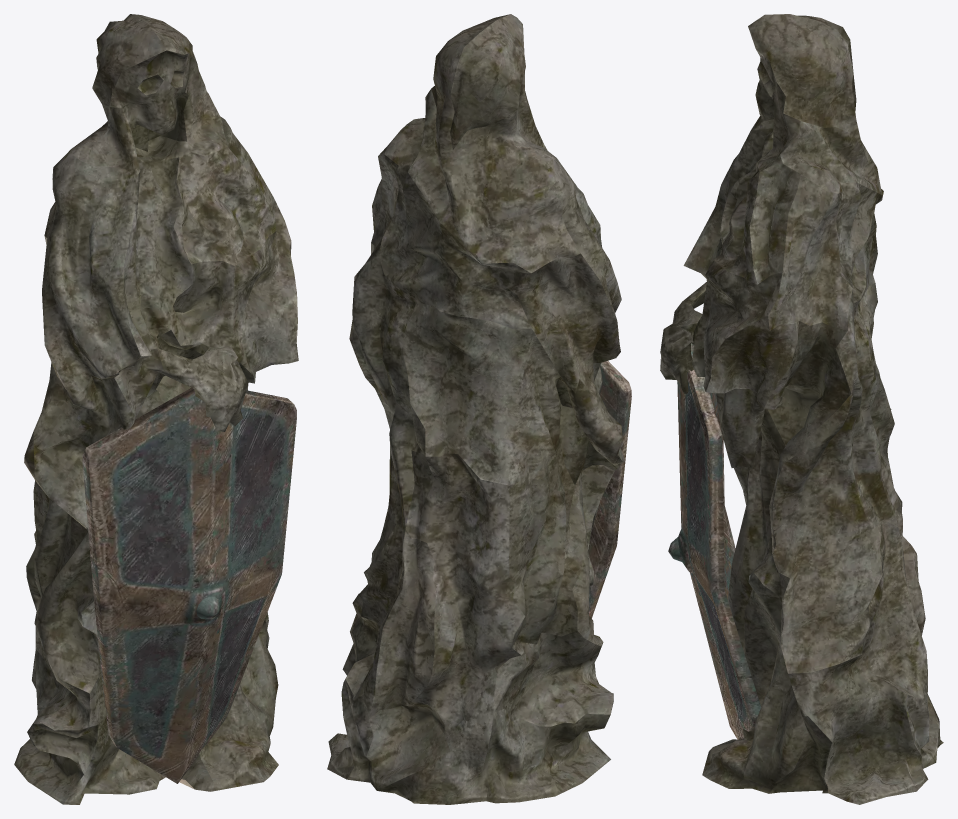
The picture shows the model from 3 angles, left to right: view 1: azimuth 30°, elevation 25°; view 2: azimuth 150°, elevation 25°; view 3: azimuth 270°, elevation 25°; orthographic projection. The views are drawn at different scales.
Parts seen in each view (by area): view 1: SM_Statue07_LOD0; view 2: SM_Statue07_LOD0; view 3: SM_Statue07_LOD0.
Boxes of the visible parts, left/top/right/bottom form: SM_Statue07_LOD0: left=14, top=14, right=298, bottom=804; SM_Statue07_LOD0: left=327, top=14, right=631, bottom=804; SM_Statue07_LOD0: left=660, top=14, right=943, bottom=804.
Bounding box in the file's own units: 0.7394 × 2.02 × 0.7136.
Materials: 2 (2 with a texture image).
